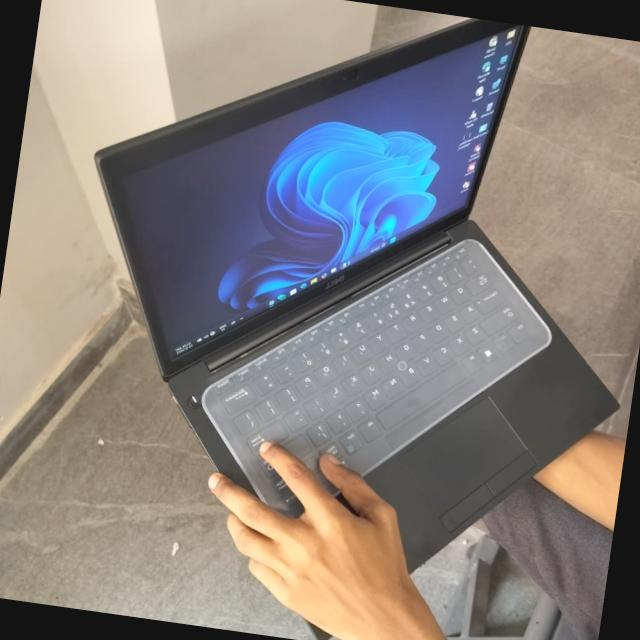laptop: (34, 0, 640, 611)
